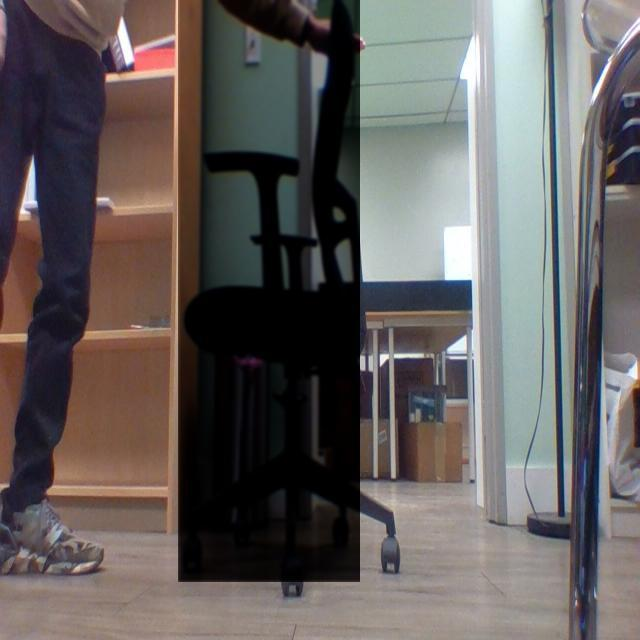chair: (181, 2, 412, 574)
light: (447, 33, 468, 85)
table: (293, 277, 479, 478)
